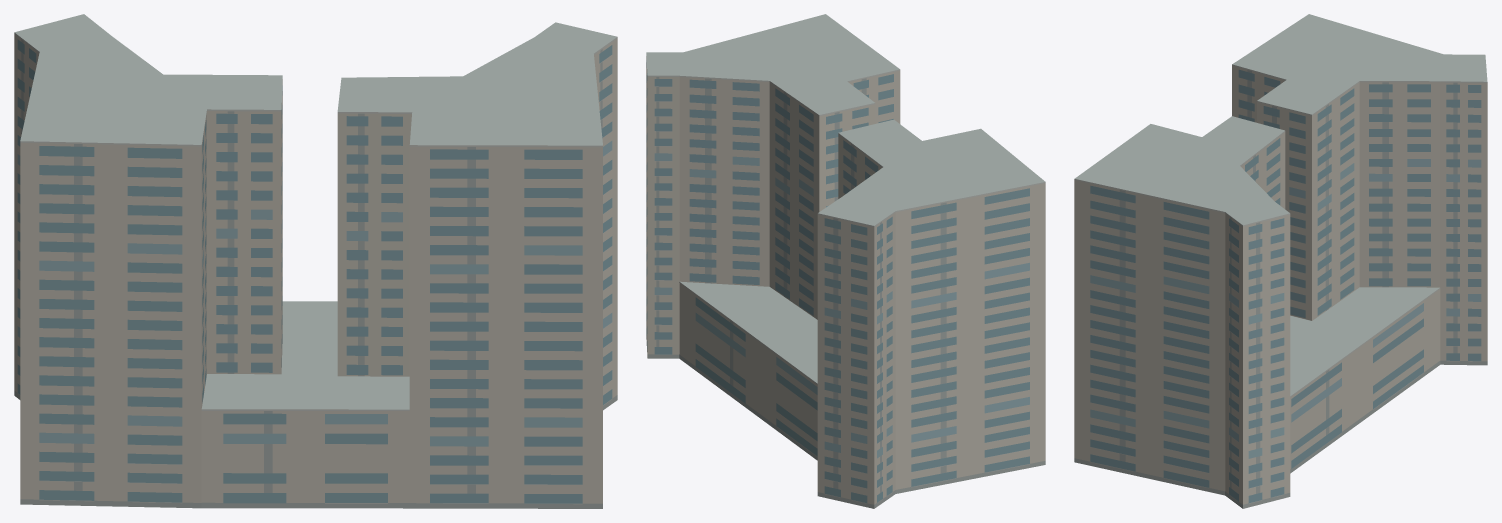
File: residential-3dee6760-1180-4b70-80dc-963295457fd0.glb
The picture shows the model from 3 angles, left to right: view 1: azimuth 30°, elevation 25°; view 2: azimuth 150°, elevation 25°; view 3: azimuth 270°, elevation 25°; orthographic projection. The views are drawn at different scales.
Parts seen in each view (by area): view 1: residential-3dee6760-1180-4b70-80dc-963295457fd0.tmp; view 2: residential-3dee6760-1180-4b70-80dc-963295457fd0.tmp; view 3: residential-3dee6760-1180-4b70-80dc-963295457fd0.tmp.
Part boxes in pixels (x1=…): residential-3dee6760-1180-4b70-80dc-963295457fd0.tmp: x1=14, y1=14, x2=617, y2=508; residential-3dee6760-1180-4b70-80dc-963295457fd0.tmp: x1=646, y1=14, x2=1045, y2=508; residential-3dee6760-1180-4b70-80dc-963295457fd0.tmp: x1=1074, y1=14, x2=1487, y2=508.
Bounding box in the file's own units: 89.55 × 56 × 73.94.
